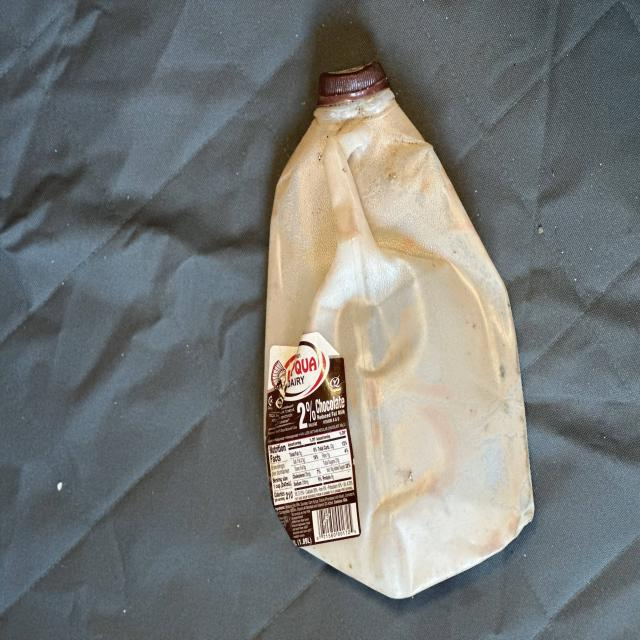milk-jug: (258, 64, 536, 596)
